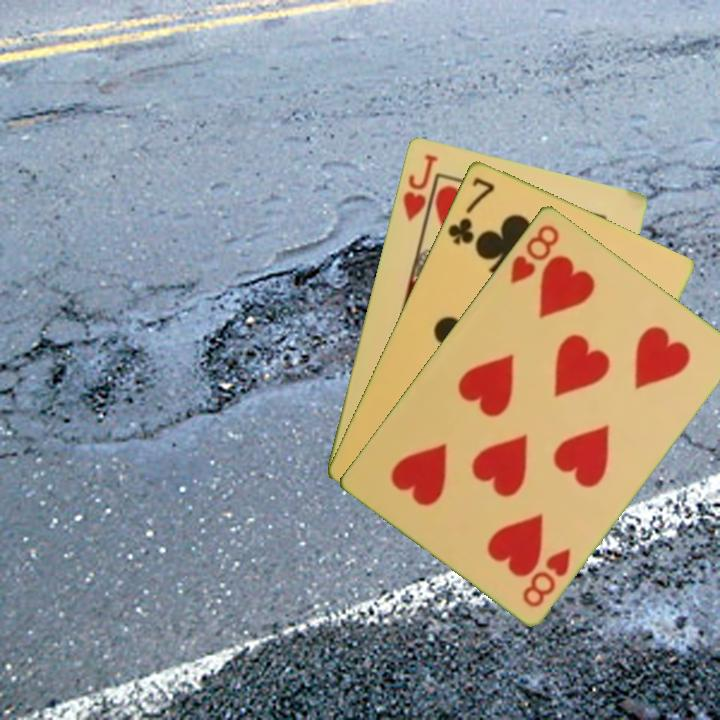7c: (444, 172, 498, 248)
8h: (506, 220, 563, 286), (518, 543, 574, 610)
Jh: (399, 150, 441, 223)
